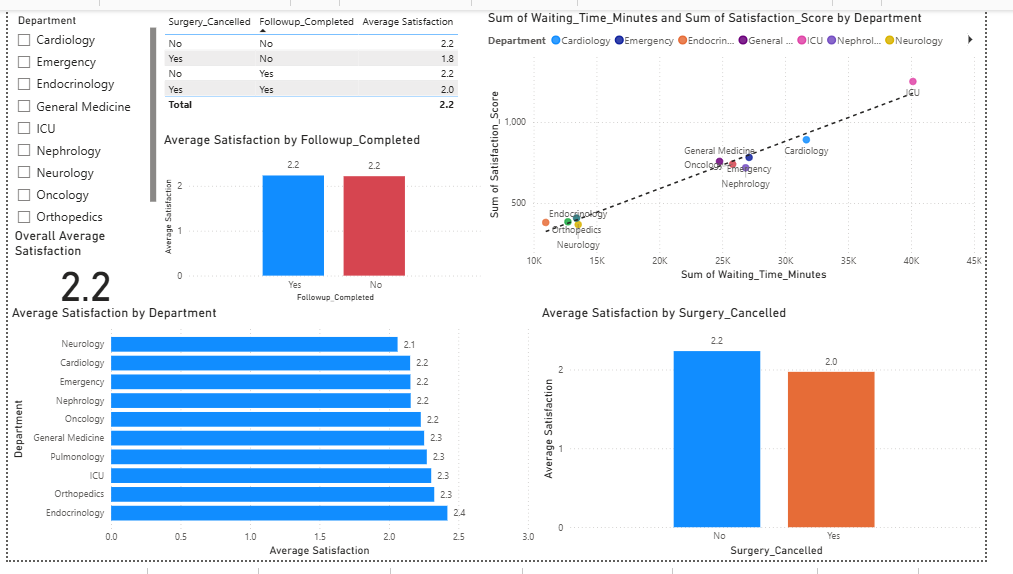

The dashboard page shown, as its layout file describes it:
{"tool":"powerbi","page":{"name":"Patient Satisfaction","canvas":[1280,720],"ordinal":5},"visuals":[{"type":"card","title":"Overall Average Satisfaction","fields":{"Values":["Healthcare_Master.Average Satisfaction"]},"box":[3.9,285.4,195.1,100.8],"z":0},{"type":"clusteredBarChart","fields":{"Category":["Healthcare_Master.Department"],"Y":["Healthcare_Master.Average Satisfaction"]},"box":[0,386.1,693.6,334.3],"z":1000},{"type":"clusteredColumnChart","fields":{"Category":["Healthcare_Master.Surgery_Cancelled"],"Y":["Healthcare_Master.Average Satisfaction"]},"box":[693.5,386.7,586.5,333.9],"z":2000},{"type":"scatterChart","fields":{"X":["Sum(Healthcare_Master.Waiting_Time_Minutes)"],"Y":["Sum(Healthcare_Master.Satisfaction_Score)"],"Series":["Healthcare_Master.Department"]},"box":[623.6,0,656.4,359.6],"z":3000},{"type":"clusteredColumnChart","fields":{"Category":["Healthcare_Master.Followup_Completed"],"Y":["Healthcare_Master.Average Satisfaction"]},"box":[198.4,159.1,425.5,227],"z":4000},{"type":"slicer","fields":{"Values":["Healthcare_Master.Department"]},"box":[0,0,199,285.4],"z":5000},{"type":"tableEx","fields":{"Values":["Healthcare_Master.Surgery_Cancelled","Healthcare_Master.Followup_Completed","Healthcare_Master.Average Satisfaction"]},"box":[198.4,0,425.5,159.1],"z":6000}]}

Visuals, with their boxes in screenshot pixels (x1, y1, x2, y2), scaled from the page's 1280x720 canvas onto the 1013x574 screenshot:
"Overall Average Satisfaction" card: (left=3, top=228, right=157, bottom=308)
clusteredBarChart - Healthcare_Master.Department x Healthcare_Master.Average Satisfaction: (left=0, top=308, right=549, bottom=573)
clusteredColumnChart - Healthcare_Master.Surgery_Cancelled x Healthcare_Master.Average Satisfaction: (left=549, top=308, right=1012, bottom=573)
scatterChart - Sum(Healthcare_Master.Waiting_Time_Minutes) x Sum(Healthcare_Master.Satisfaction_Score): (left=494, top=0, right=1012, bottom=287)
clusteredColumnChart - Healthcare_Master.Followup_Completed x Healthcare_Master.Average Satisfaction: (left=157, top=127, right=494, bottom=308)
slicer - Healthcare_Master.Department: (left=0, top=0, right=157, bottom=228)
tableEx - Healthcare_Master.Surgery_Cancelled x Healthcare_Master.Followup_Completed: (left=157, top=0, right=494, bottom=127)
